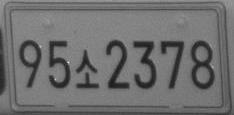2: (104, 38, 130, 88)
3: (132, 39, 157, 89)
5: (47, 39, 71, 89)
7: (160, 39, 184, 88)
8: (189, 38, 216, 90)
9: (18, 38, 42, 88)
소: (74, 48, 98, 88)
